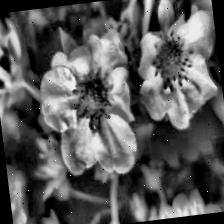Blossom Blight: (146, 24, 200, 94), (66, 67, 118, 135)
